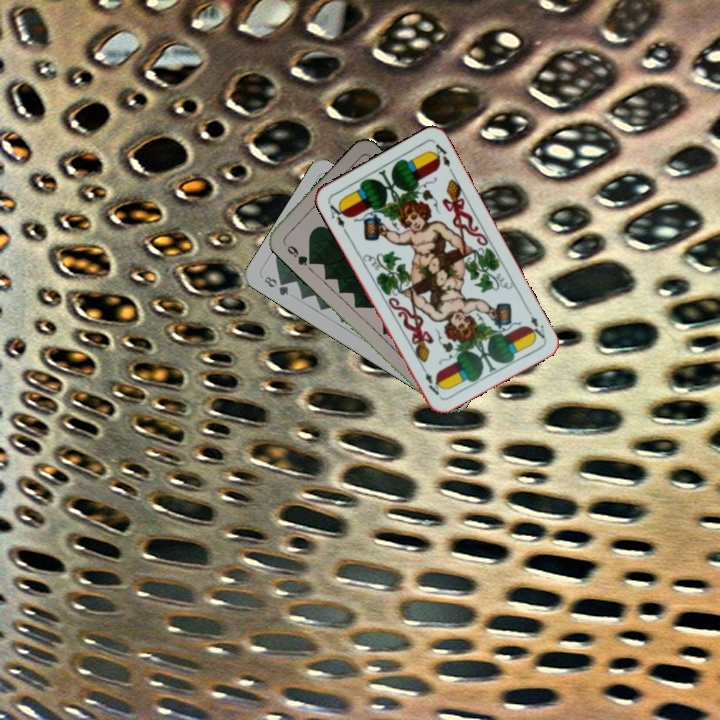EA: (522, 304, 547, 342), (324, 198, 349, 235)
G8: (260, 272, 291, 298)
G9: (279, 238, 314, 268)
